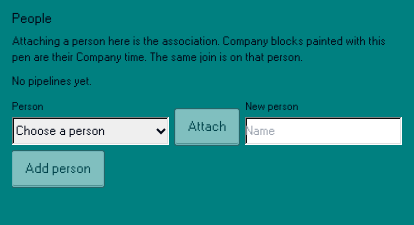
Test: PersonPipelinesEditor › creates a person joined to this company pen
The width and height of the screenshot is (414, 225).
Step 1. Type "Jonah" into the field labelled "New person" → (324, 131), box [245, 117, 402, 145]
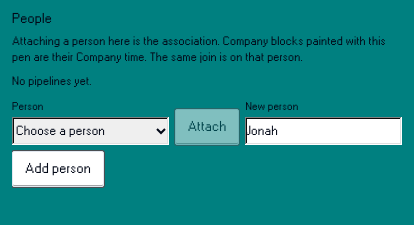
Step 2. Click the button "Add person" → (58, 169), box [12, 151, 104, 187]
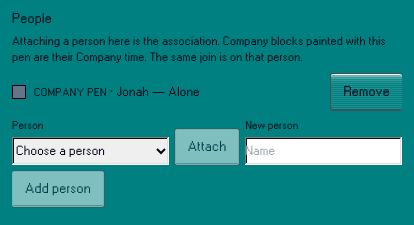
Check: the text "Company pen · Jonah — Alone" is shown, box [34, 86, 200, 98]
